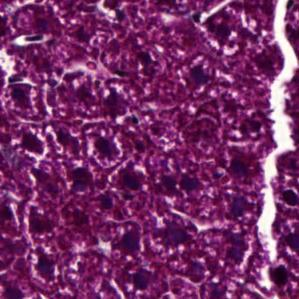inflammation: (2, 78, 48, 120), (84, 129, 125, 174), (202, 8, 240, 55)
